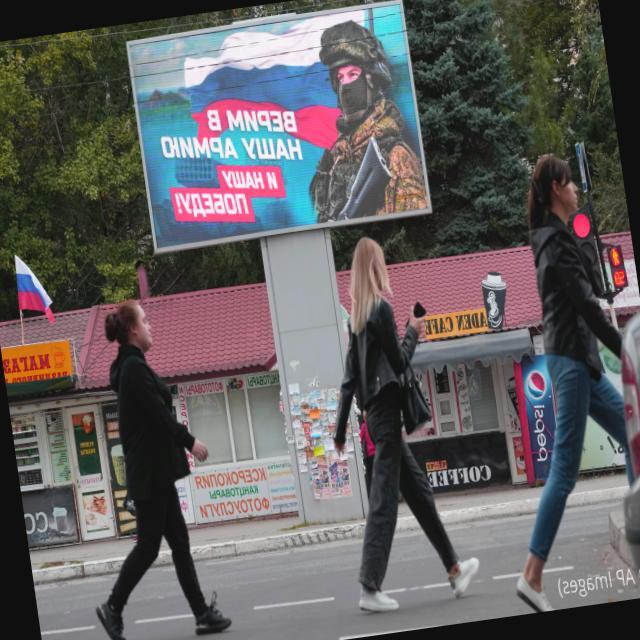person: (450, 144, 640, 615), (296, 226, 485, 619), (50, 287, 236, 640), (559, 104, 561, 112), (544, 116, 546, 118)
